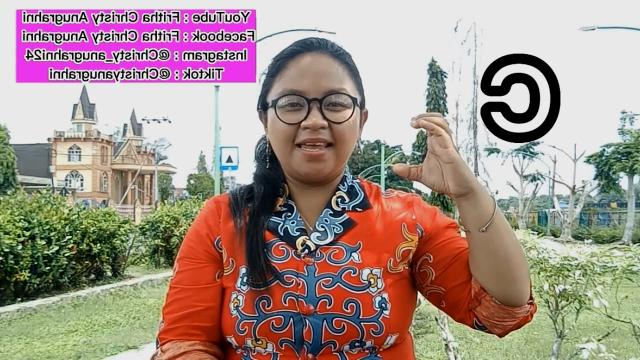C: (392, 112, 474, 198)
